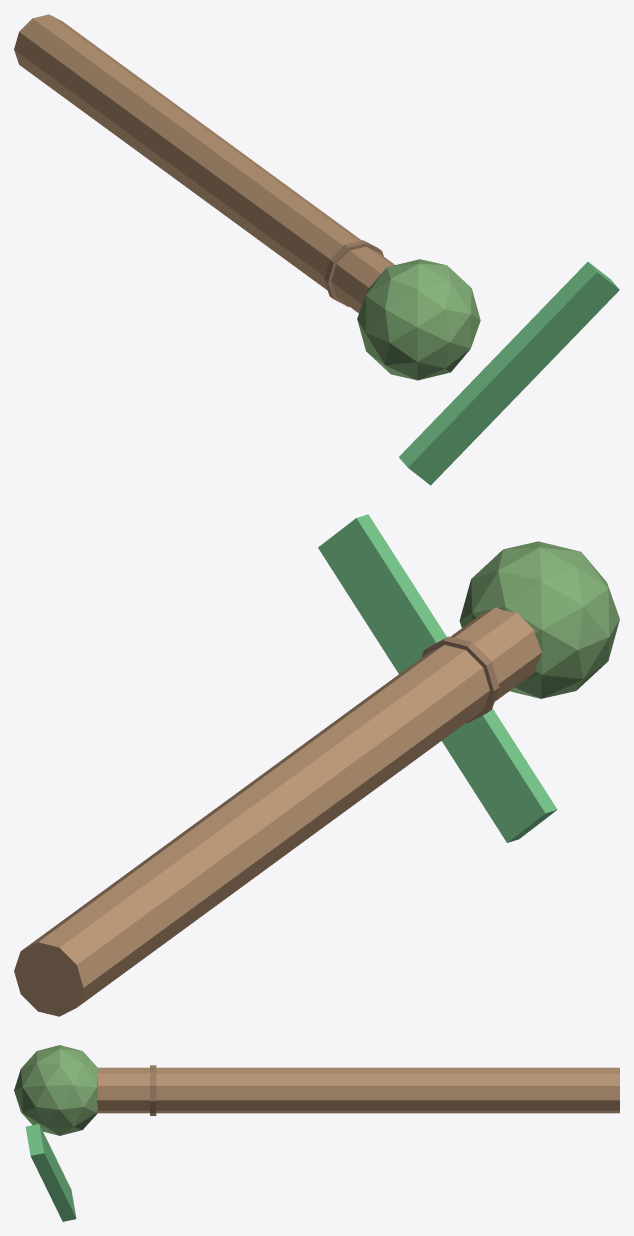
The model's file is env_palm_tree_tall.glb.
3 views of the same model, one above another, from view 1: azimuth 30°, elevation 25°; view 2: azimuth 150°, elevation 25°; view 3: azimuth 270°, elevation 25° (orthographic). The views are drawn at different scales.
Parts seen in each view (by area): view 1: trunk, leaf, crown, trunk_ring; view 2: trunk, leaf, crown, trunk_ring; view 3: trunk, crown, leaf, trunk_ring.
Boxes of the visible parts, left/top/right/bottom form: trunk: left=14, top=14, right=394, bottom=313; leaf: left=399, top=262, right=619, bottom=485; crown: left=357, top=259, right=480, bottom=380; trunk_ring: left=324, top=240, right=383, bottom=306; trunk: left=14, top=607, right=541, bottom=1016; leaf: left=318, top=514, right=557, bottom=842; crown: left=459, top=541, right=619, bottom=698; trunk_ring: left=421, top=636, right=499, bottom=723; trunk: left=97, top=1067, right=619, bottom=1113; crown: left=14, top=1045, right=99, bottom=1135; leaf: left=25, top=1124, right=76, bottom=1221; trunk_ring: left=150, top=1065, right=156, bottom=1115.
Bounding box in the file's own units: 1.14 × 1.05 × 3.44.
